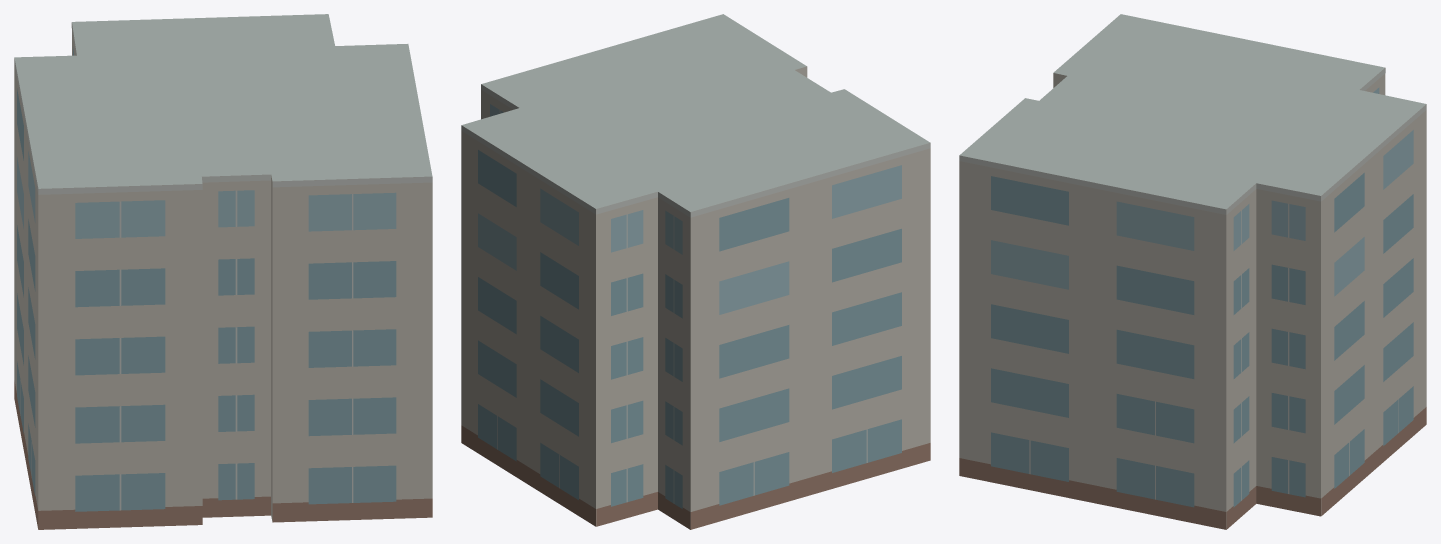
The model's file is survey-upis-32771279.glb.
3 views of the same model, side by side, from view 1: azimuth 30°, elevation 25°; view 2: azimuth 150°, elevation 25°; view 3: azimuth 270°, elevation 25° (orthographic). The views are drawn at different scales.
Visible parts, largest first — view 1: survey-upis-32771279.tmp; view 2: survey-upis-32771279.tmp; view 3: survey-upis-32771279.tmp.
Part boxes in pixels (left/top/right/bottom): survey-upis-32771279.tmp: left=14, top=14, right=432, bottom=529; survey-upis-32771279.tmp: left=461, top=14, right=930, bottom=529; survey-upis-32771279.tmp: left=959, top=14, right=1426, bottom=529.
Size of the model in its own units: 18.19 by 13.9 by 18.38.
